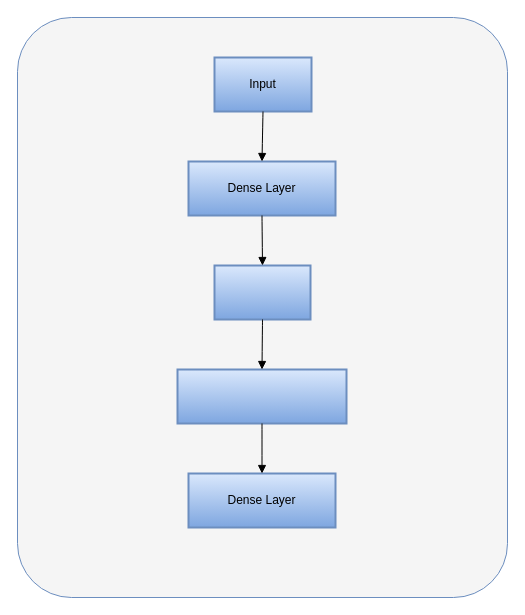
The diagram is 525 pixels wide and 615 high, and some of its shapes have lost their labels. The shapes that lost their labels are listed below. From the top down, each one's centre as x and y in pixels, then its label:
point (262, 292): ReLU
point (261, 396): Quantum Layer
